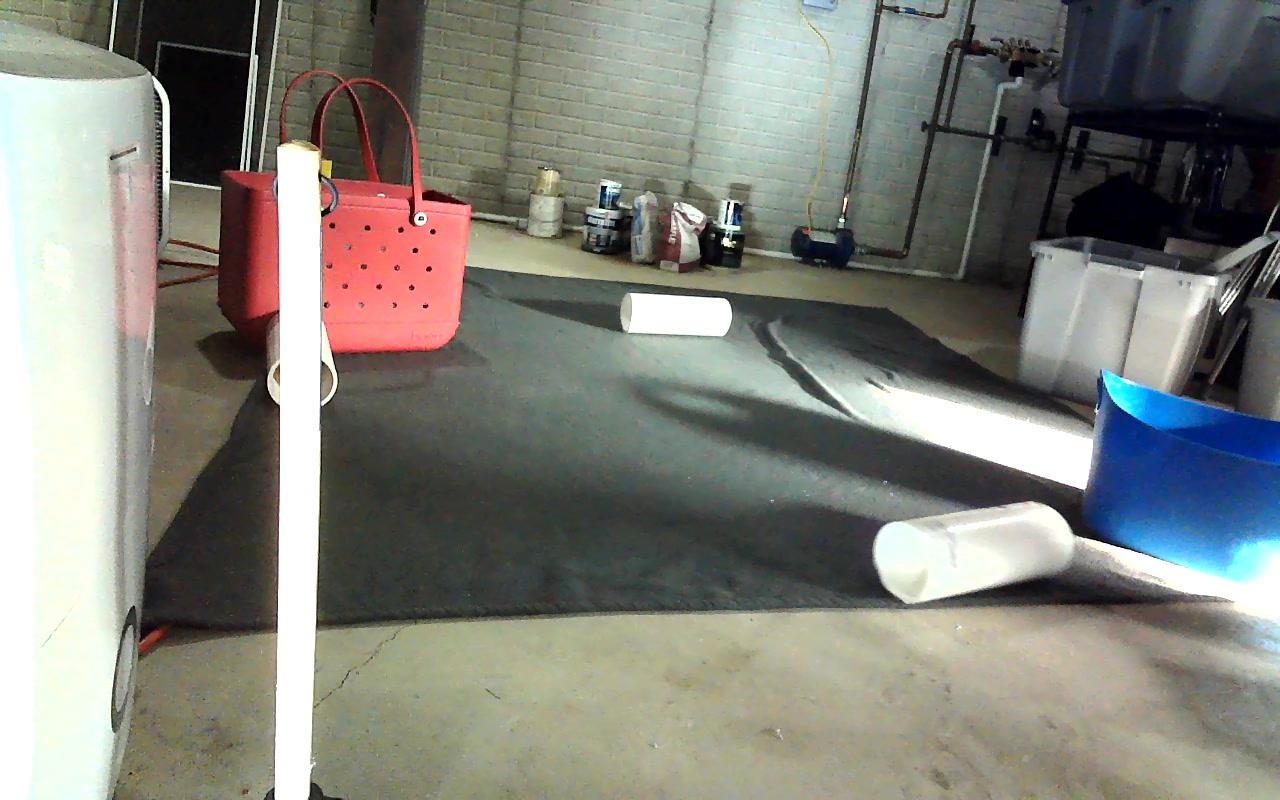coral: (875, 503, 1074, 603), (267, 310, 336, 407), (619, 292, 730, 337)
